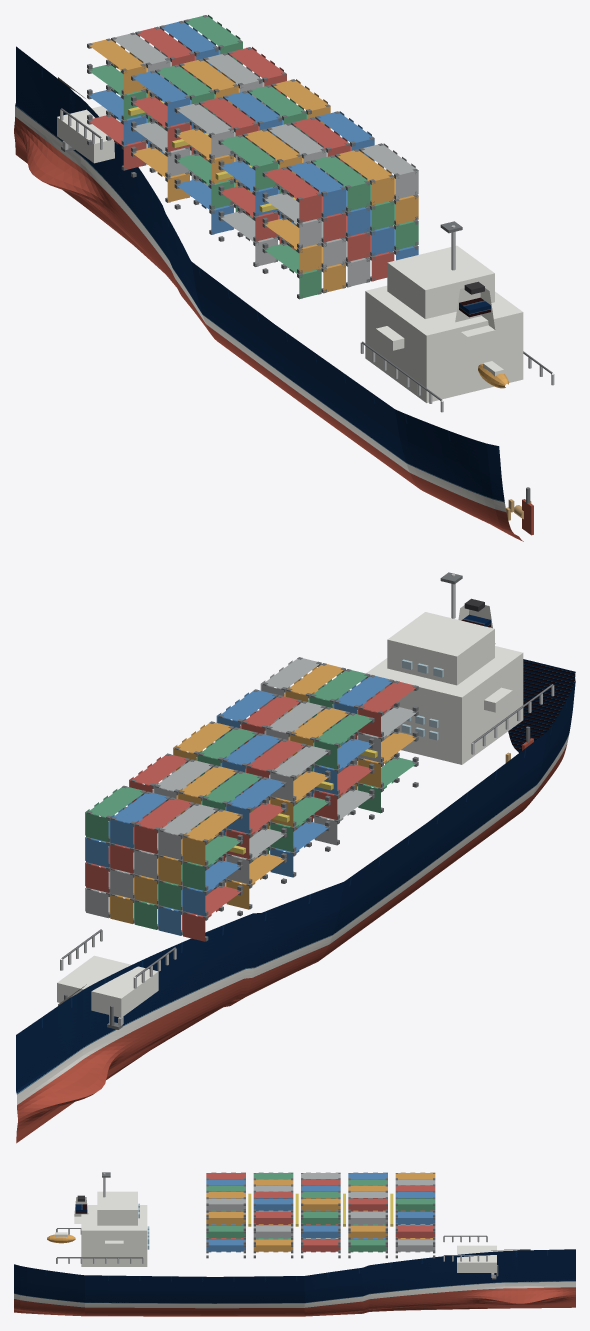
The model's file is cargo.glb.
3 renders of one model, top to bottom at view 1: azimuth 30°, elevation 25°; view 2: azimuth 150°, elevation 25°; view 3: azimuth 270°, elevation 25°, orthographic. The views are drawn at different scales.
Parts seen in each view (by area): view 1: ship; view 2: ship; view 3: ship.
Part boxes in pixels (box(x1,y1,x2,y2)): ship: box(14, 15, 554, 541); ship: box(16, 572, 575, 1143); ship: box(14, 1172, 575, 1316).
Size of the model in its own units: 0.6634 by 1.06 by 3.92.
Materials: 16 (1 with a texture image).
